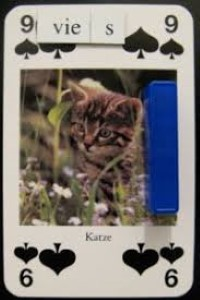NineOfSpades: (3, 3, 195, 296)
